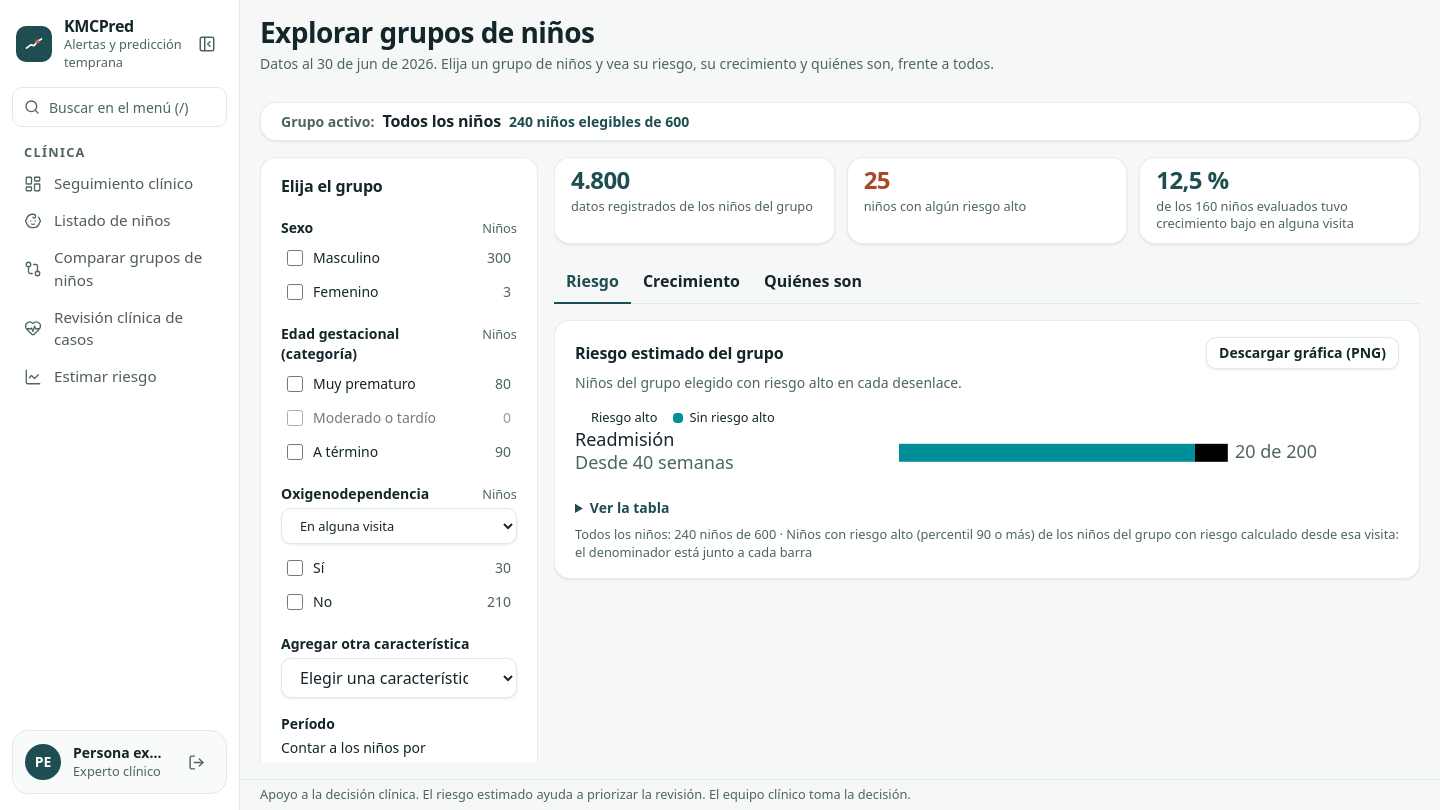
explorar › una variable de medición se agrega con su regla de lectura y la regla viaja en la dirección
Check: the dropdown named "Regla de lectura: Oxigenodependencia" shows "En alguna visita", box 281,508 -> 517,544
// otra variable de las que se miden: se agrega con «Agregar otra característica» y la pide en las facetas
Select "Hematocrito" in the dropdown labelled "Agregar otra característica" at (399, 678), box 281,658 -> 517,698
// cambiar la regla de la que ya filtra cambia el «cuando» del filtro
Click the checkbox labelled "Sí 30" at (295, 568), box 287,560 -> 303,576
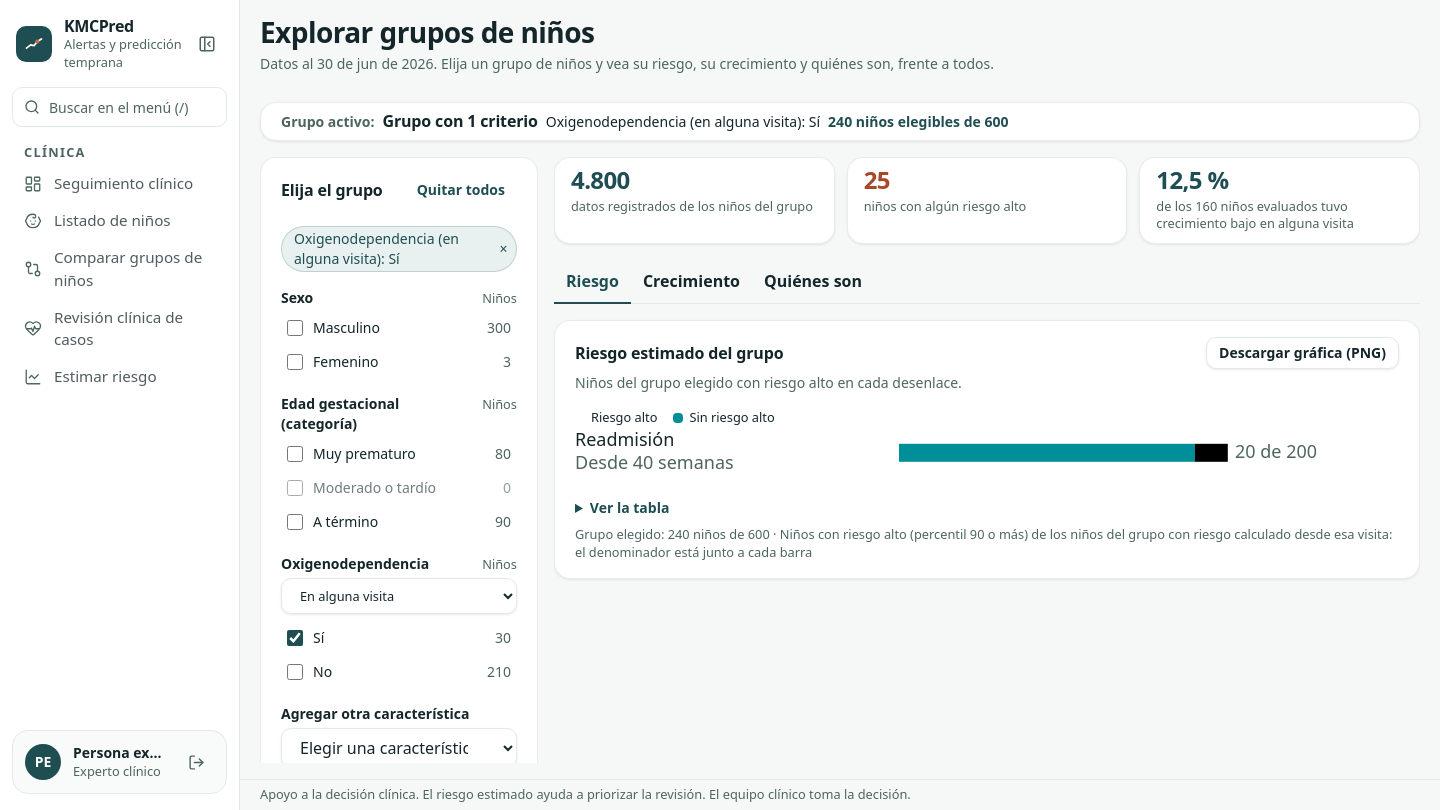
Select "En la visita 40 semanas" in the dropdown named "Regla de lectura: Oxigenodependencia" at (399, 596), box 281,578 -> 517,614
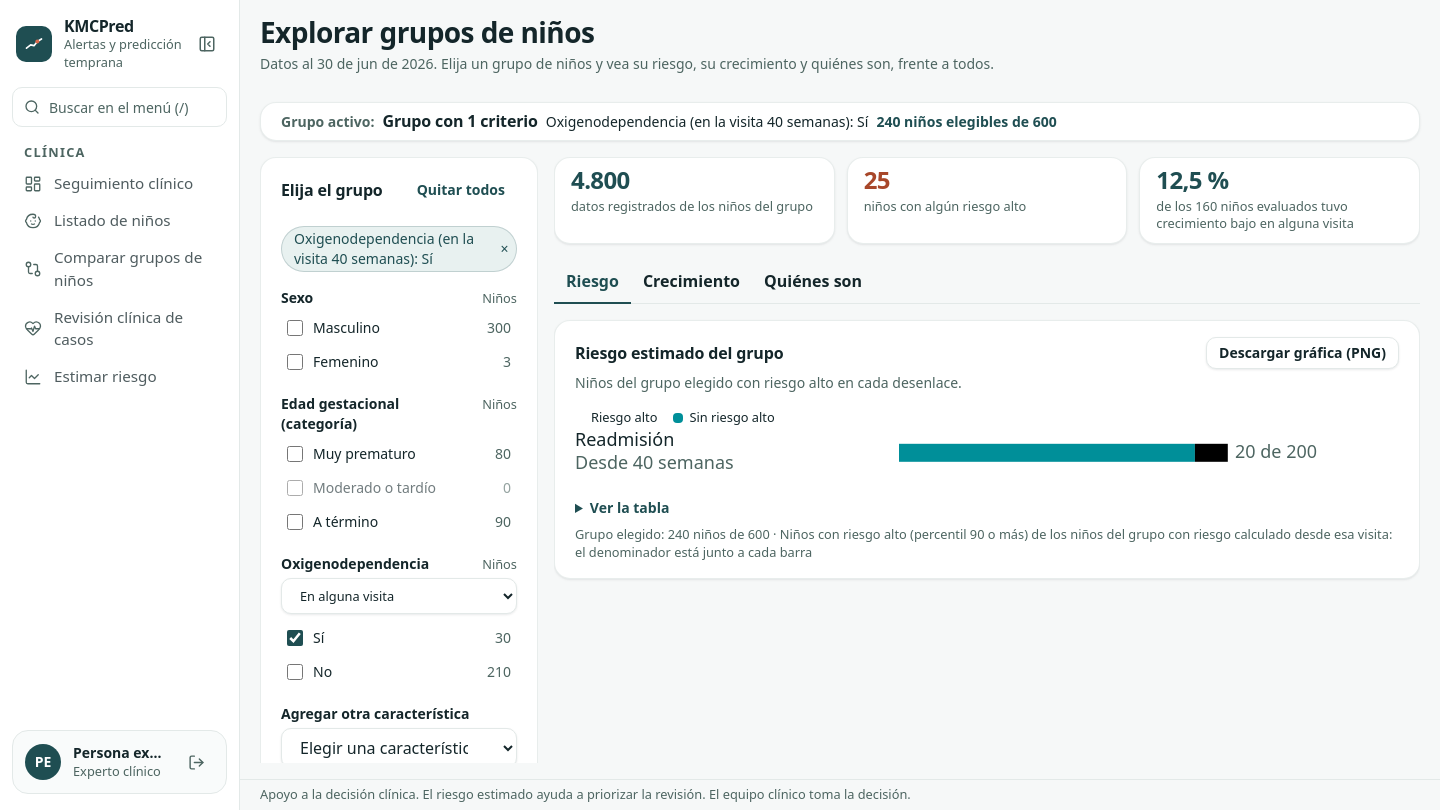
Check: the text "Oxigenodependencia (en la visita 40 semanas): Sí" below "Elija el grupo" is shown, box 294,229 -> 474,268
